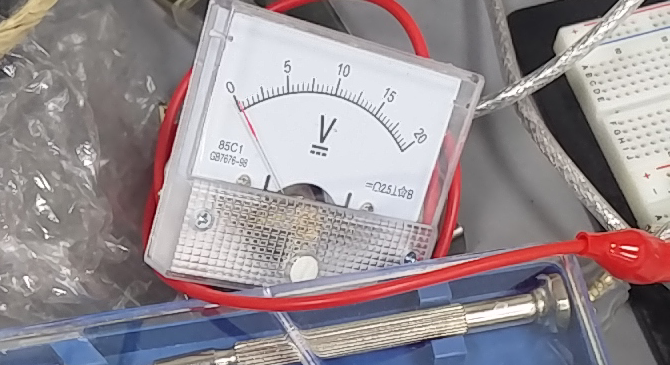Volt_Meter: (182, 1, 465, 227)
